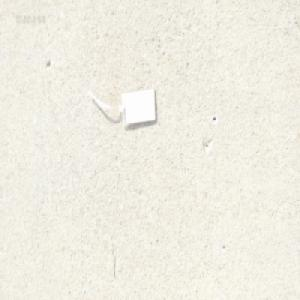LuggageTag: (87, 72, 158, 129)
